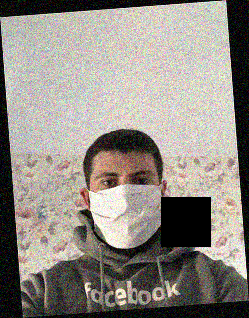with_mask: (89, 162, 164, 248)
